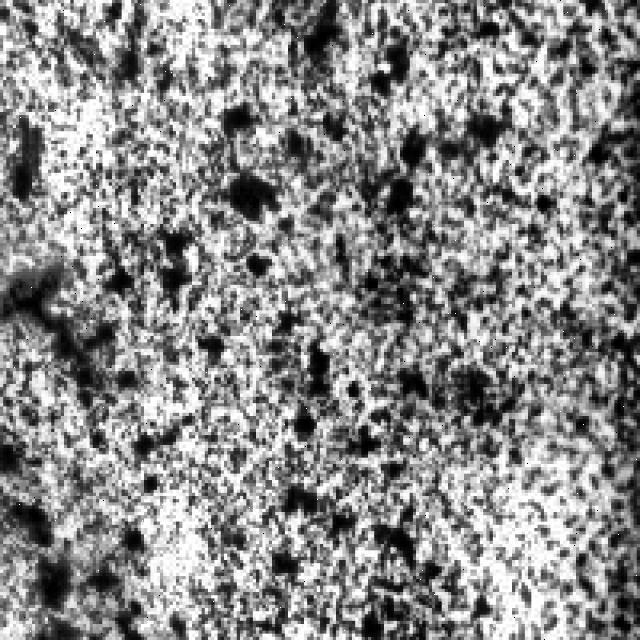Rolled_in_Scale: (150, 0, 637, 637), (0, 237, 141, 637)
